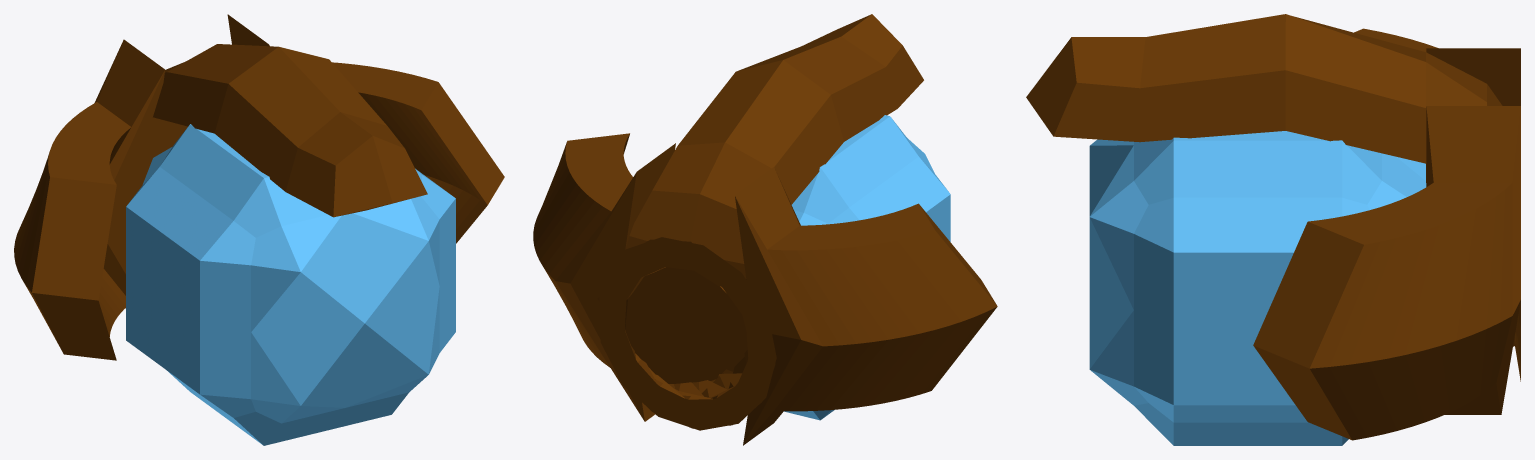
Rendered from drone.glb.
The picture shows the model from 3 angles, left to right: view 1: azimuth 30°, elevation 25°; view 2: azimuth 150°, elevation 25°; view 3: azimuth 270°, elevation 25°; orthographic projection. The views are drawn at different scales.
Parts seen in each view (by area): view 1: Cube; view 2: Cube; view 3: Cube.
Boxes of the visible parts, x1,y1,x2,y2 form: Cube: [14, 14, 504, 445]; Cube: [533, 14, 997, 445]; Cube: [1026, 14, 1520, 445].
Size of the model in its own units: 3.7 by 2.6 by 2.94.
